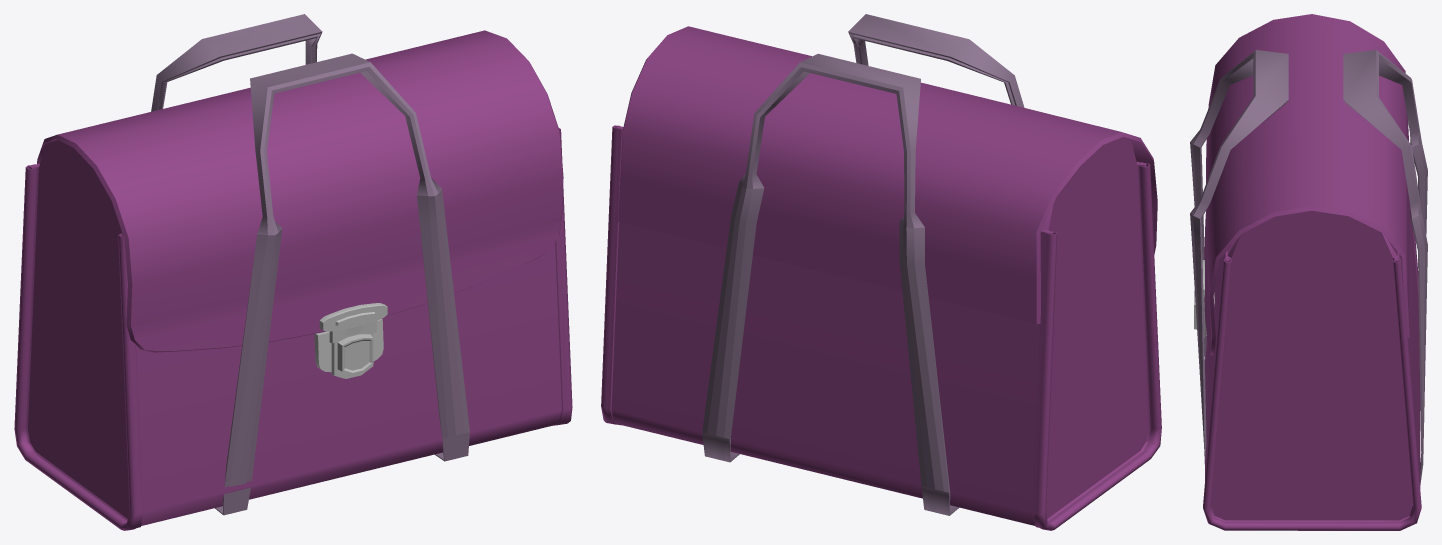
The model's file is az detaylı çanta 3.fbx.
3 views of the same model, side by side, from view 1: azimuth 30°, elevation 25°; view 2: azimuth 150°, elevation 25°; view 3: azimuth 270°, elevation 25° (orthographic). The views are drawn at different scales.
Parts seen in each view (by area): view 1: polySurface77, polySurface71, polySurface78, polySurface84, polySurface75, polySurface74, polySurface73, polySurface79, polySurface72; view 2: polySurface77, polySurface71, polySurface78, polySurface84, polySurface75, polySurface74; view 3: polySurface76, polySurface77, polySurface84, polySurface74, polySurface71.
Part boxes in pixels (x1,y1,x2,y2): polySurface77: (37,30,563,352); polySurface71: (29,163,561,525); polySurface78: (25,140,129,520); polySurface84: (151,14,469,515); polySurface75: (14,164,142,530); polySurface74: (554,128,572,425); polySurface73: (319,303,387,378); polySurface79: (337,334,373,374); polySurface72: (314,319,383,372); polySurface77: (618,26,1157,324); polySurface71: (611,127,1146,525); polySurface78: (1042,137,1150,520); polySurface84: (702,14,1024,515); polySurface75: (1033,162,1161,530); polySurface74: (601,125,622,425); polySurface76: (1211,210,1413,521); polySurface77: (1204,14,1409,355); polySurface84: (1190,50,1427,484); polySurface74: (1203,258,1421,530); polySurface71: (1205,200,1420,487).
Bounding box in the file's own units: 26.48 × 22.47 × 13.47.
